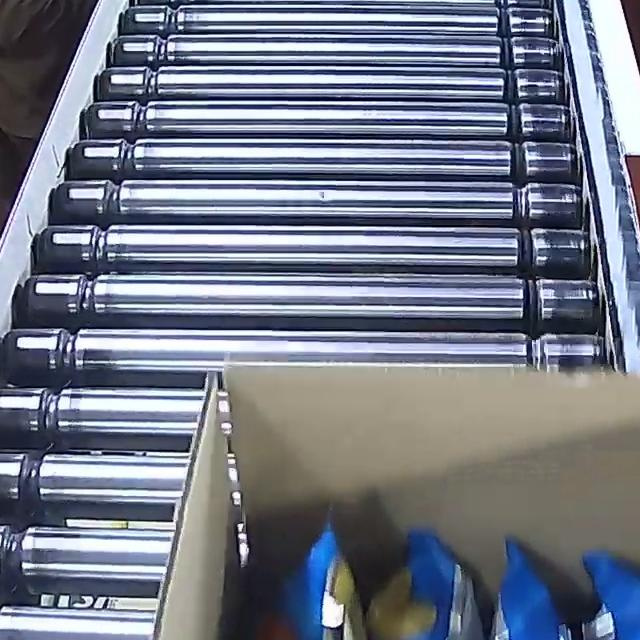paprika: (214, 505, 640, 640)
